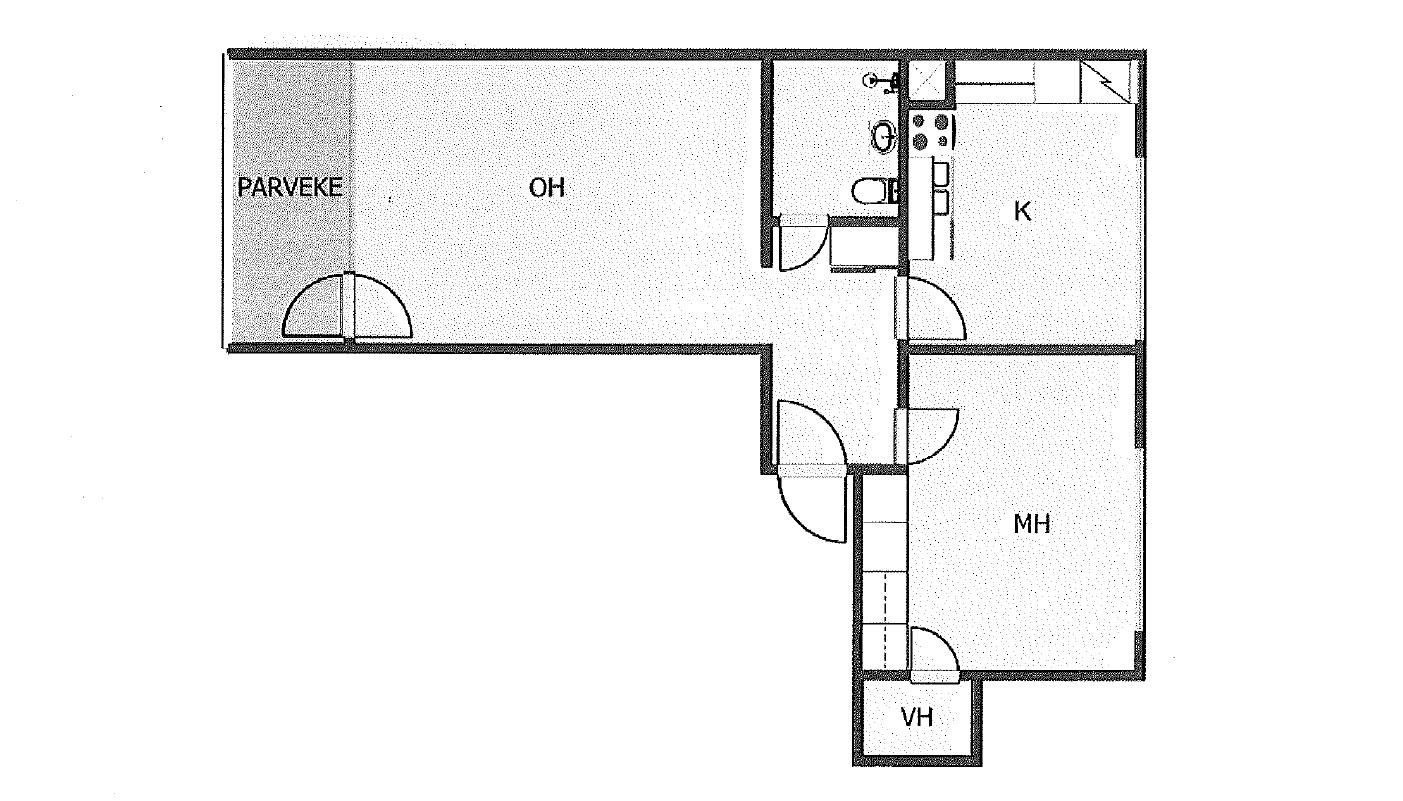bathroom: (772, 59, 900, 215)
door: (774, 462, 852, 550), (269, 264, 356, 342), (774, 393, 853, 478), (342, 265, 415, 346), (892, 273, 971, 345), (891, 403, 964, 469), (908, 621, 963, 688), (775, 211, 829, 277)
perimeter: (347, 45, 1148, 768)
window: (1130, 145, 1152, 349), (1134, 436, 1149, 643)
